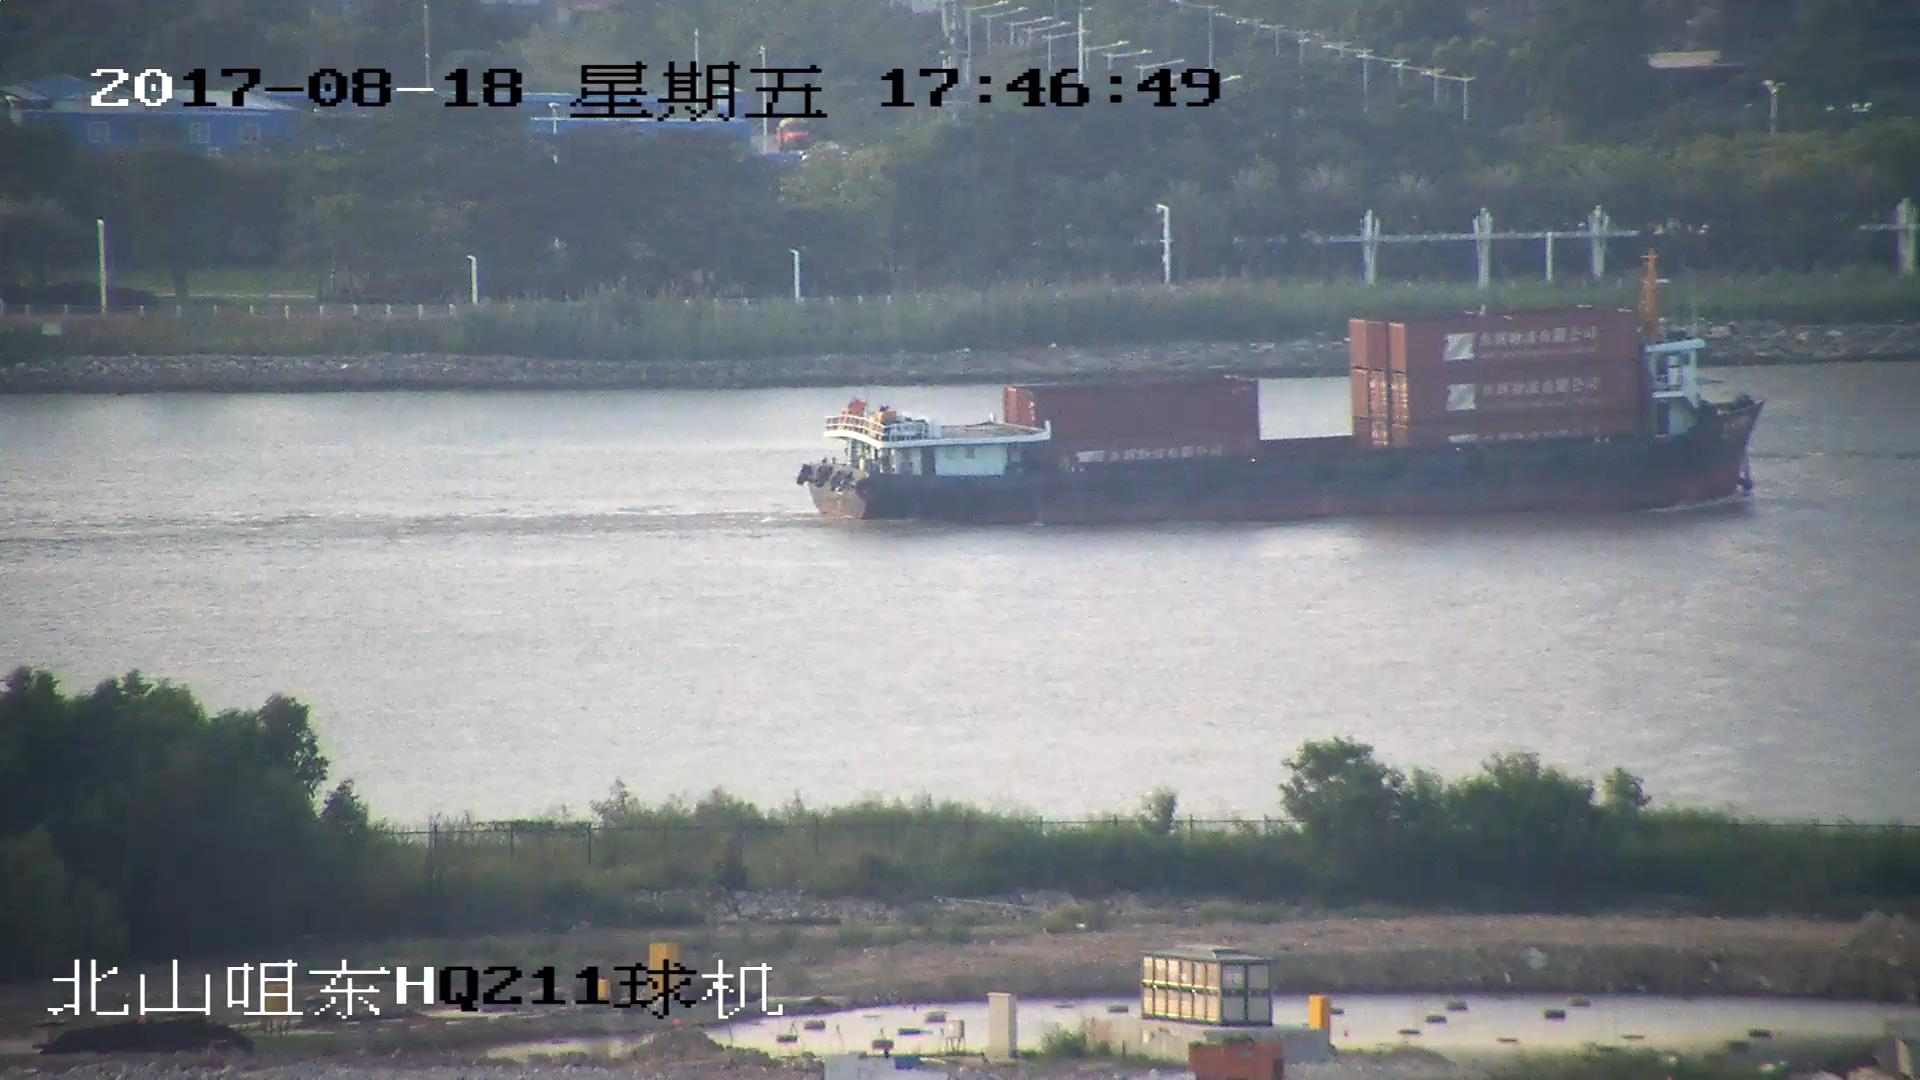container ship: (805, 254, 1763, 525)
